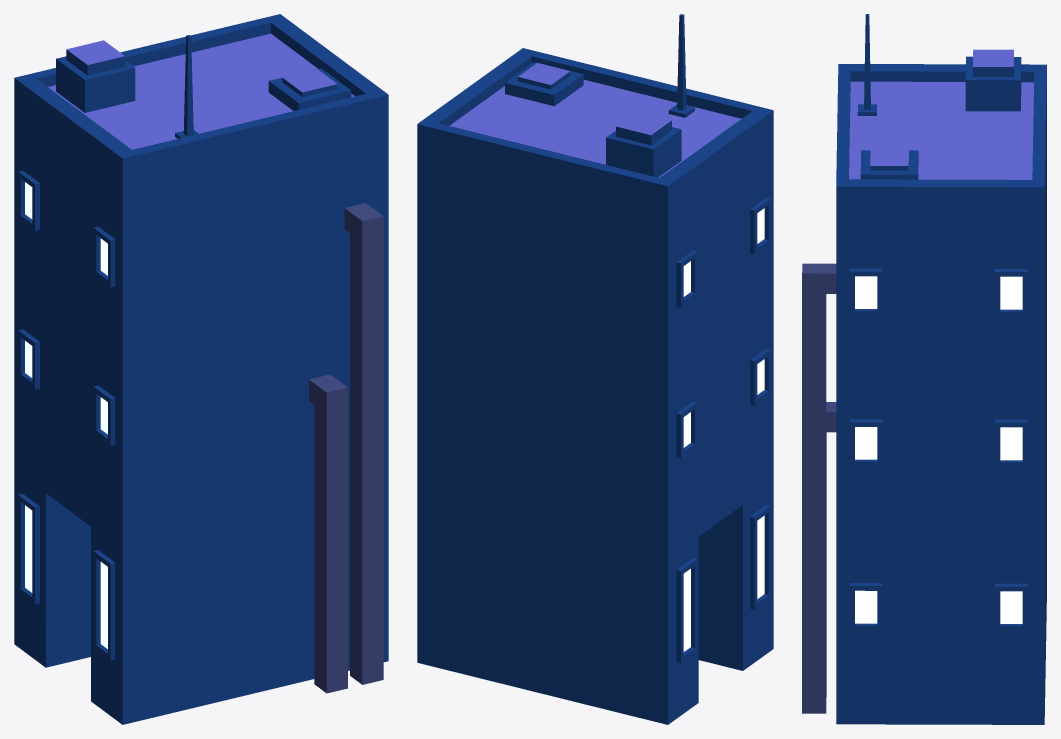
The picture shows the model from 3 angles, left to right: view 1: azimuth 30°, elevation 25°; view 2: azimuth 150°, elevation 25°; view 3: azimuth 270°, elevation 25°; orthographic projection. The views are drawn at different scales.
Parts seen in each view (by area): view 1: Building 03.003; view 2: Building 03.003; view 3: Building 03.003.
Boxes of the visible parts, bbox=[...] form: Building 03.003: bbox=[14, 14, 388, 724]; Building 03.003: bbox=[417, 14, 773, 724]; Building 03.003: bbox=[802, 14, 1046, 724].
Bounding box in the file's own units: 3.6 × 8.16 × 2.9.
